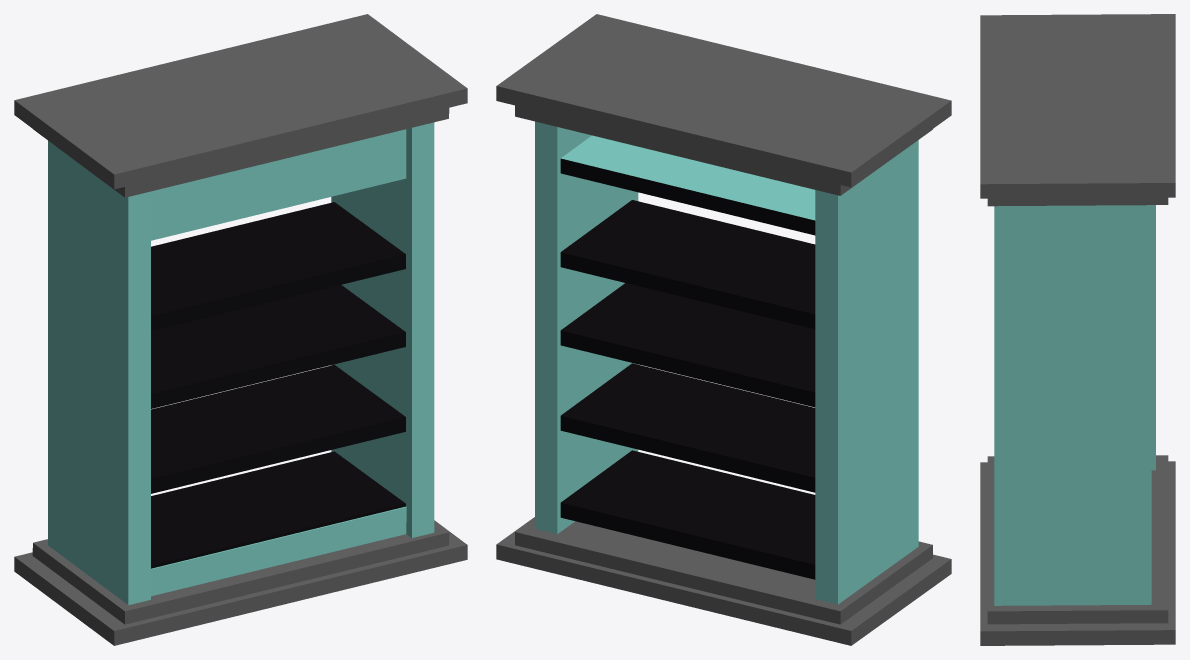
Rendered from shell.fbx.
3 views of the same model, side by side, from view 1: azimuth 30°, elevation 25°; view 2: azimuth 150°, elevation 25°; view 3: azimuth 270°, elevation 25° (orthographic). The views are drawn at different scales.
Visible parts, largest first — view 1: shell; view 2: shell; view 3: shell.
Part boxes in pixels (x1=…): shell: x1=14, y1=14, x2=467, y2=645; shell: x1=496, y1=14, x2=951, y2=645; shell: x1=980, y1=14, x2=1175, y2=645.
Size of the model in its own units: 52.93 by 67.67 by 25.89.
